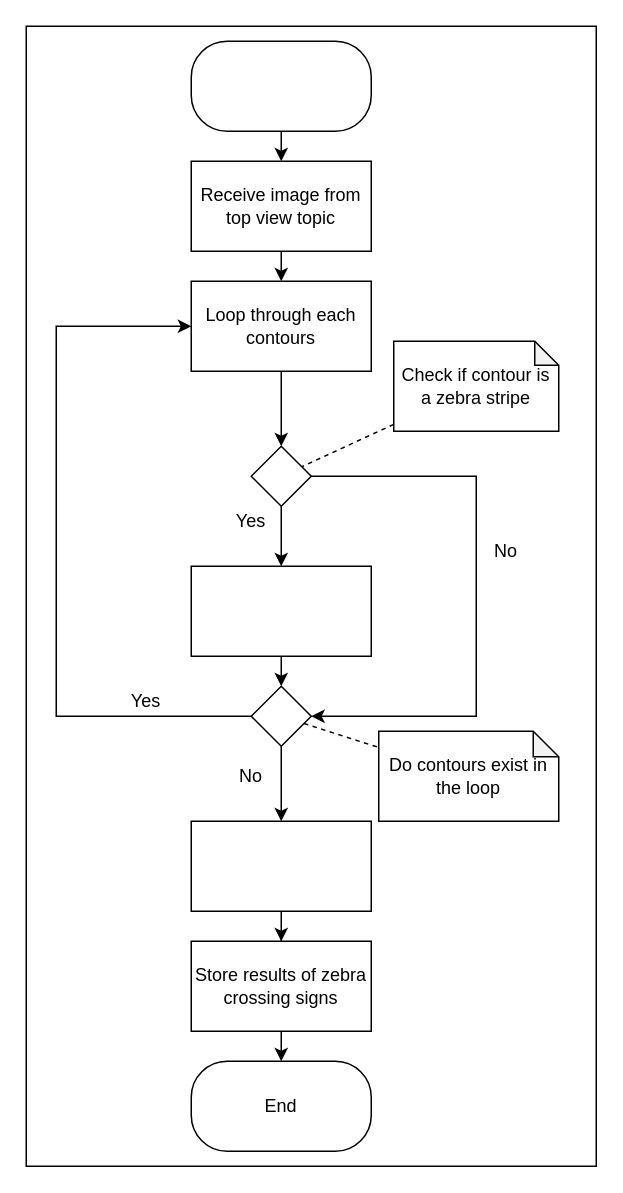
Some shapes in this 623 by 1193 pixel diagram are drawn without their labels. Each missing label, with the centre of its shape:
"Merge the detected zebra stripes" belongs at (280,865).
"Start" belongs at (280,85).
"Store stripes in list of detected zebra stripes" belongs at (280,610).
